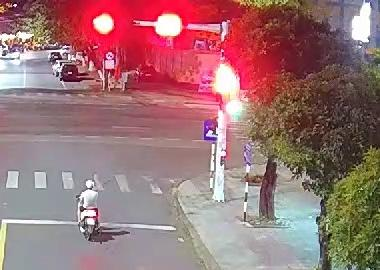red_light: (214, 58, 240, 113), (156, 10, 181, 40), (91, 9, 115, 36)
stop_line: (2, 215, 189, 233)
